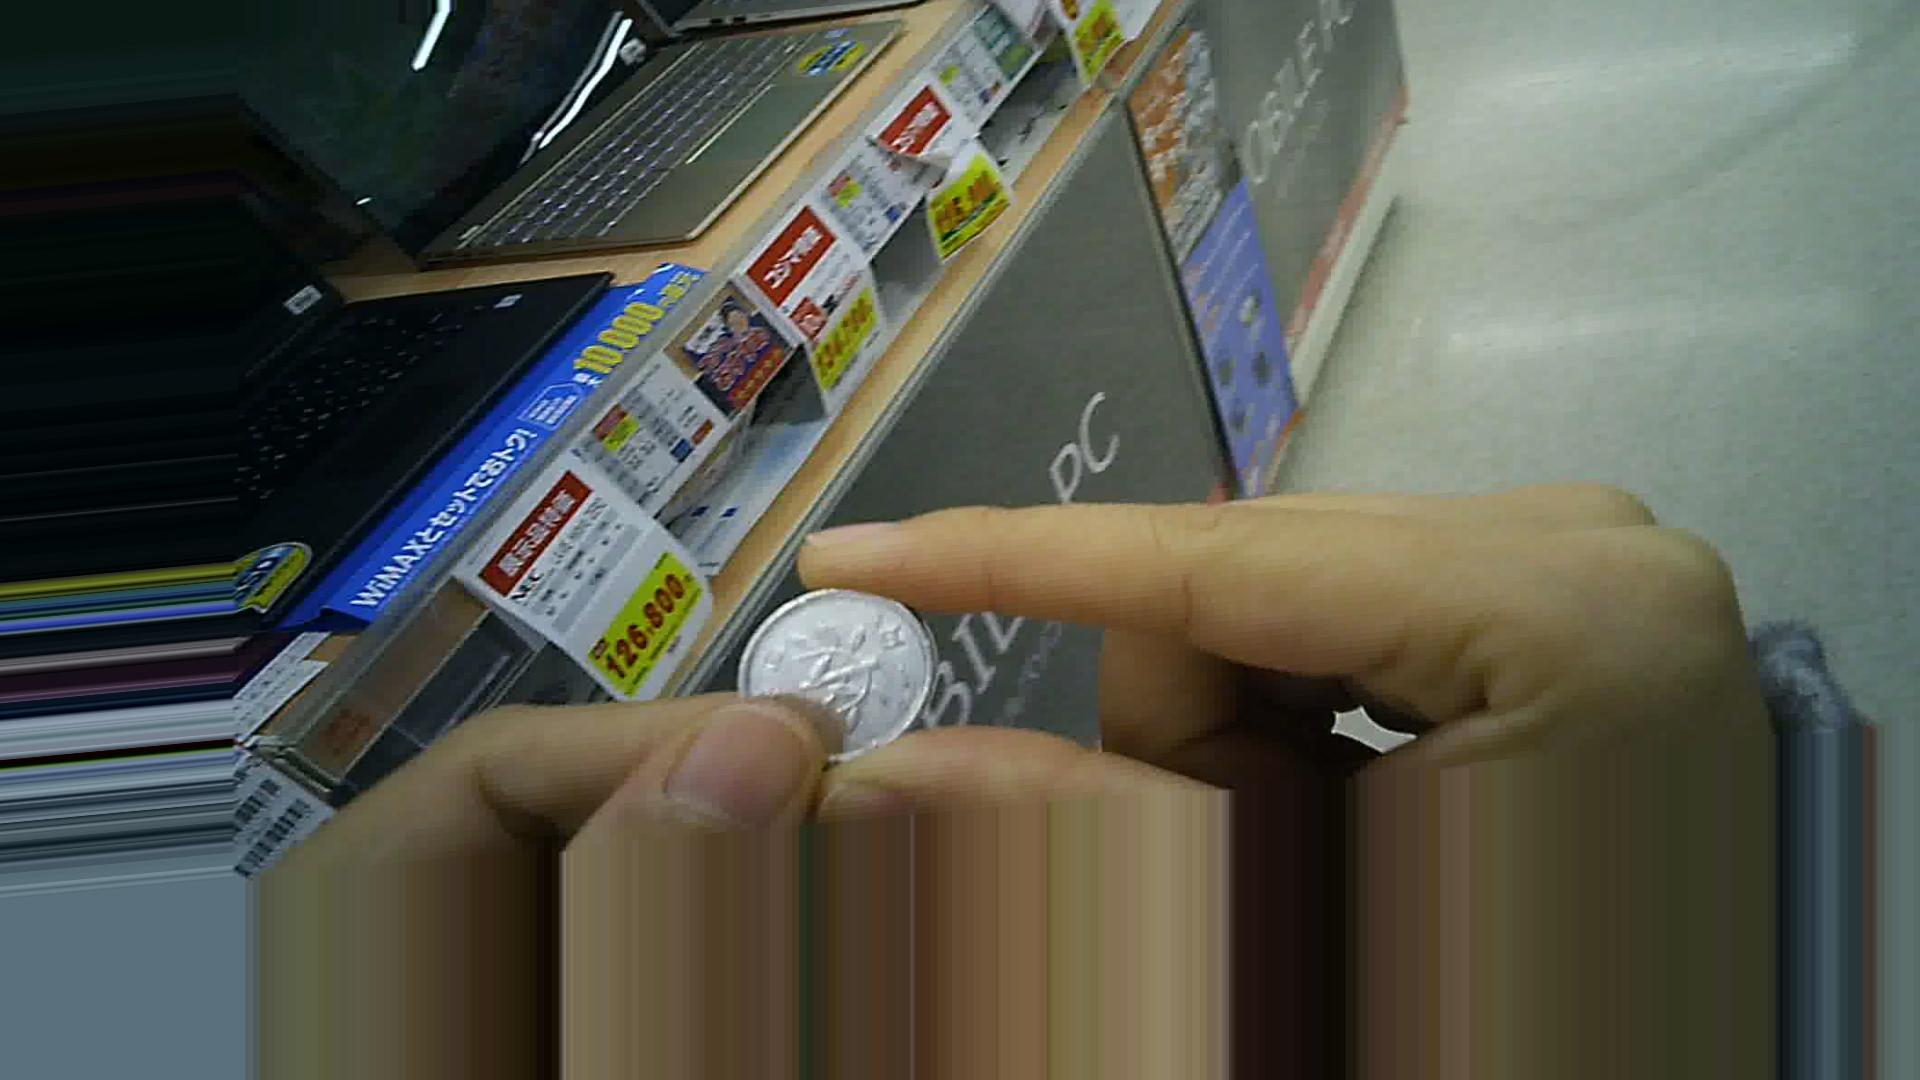1 Yen: (715, 568, 947, 767)
